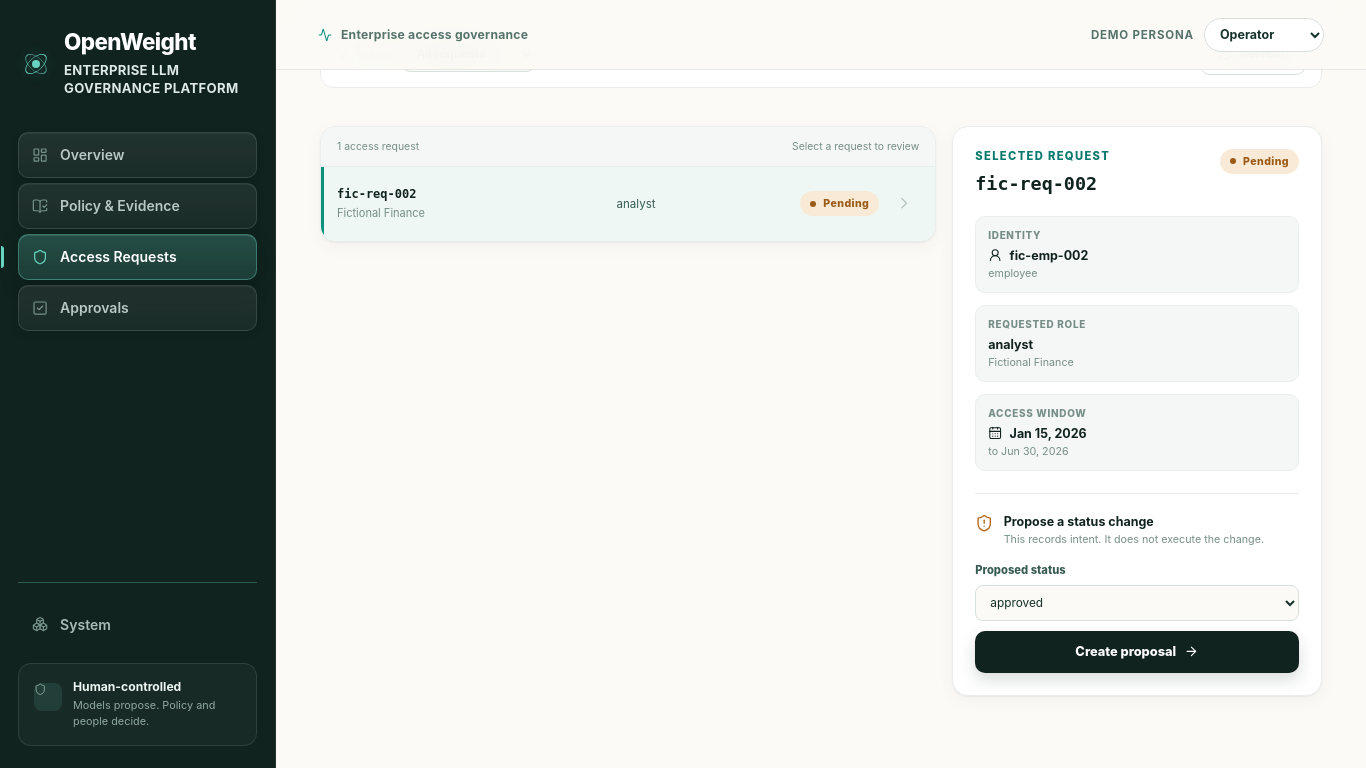
it: access proposal and human approval flow › supports deliberate rejection without presenting a controlled write
(page scrolled)
Click the button "Create proposal". click: (1137, 652)
box: 975,630 -> 1299,672
(page scrolled)
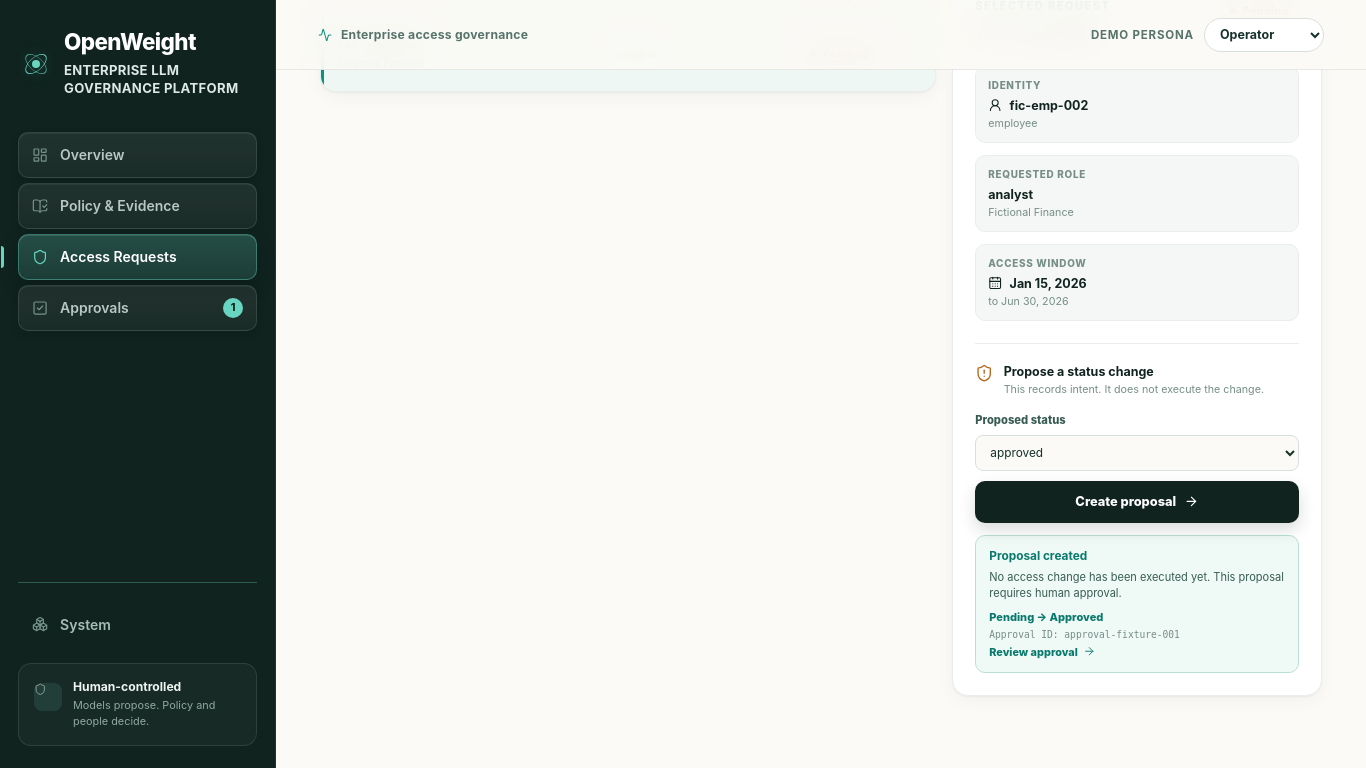
Click the button "Review approval". click: (1042, 652)
box: 989,645 -> 1095,659
(page scrolled)
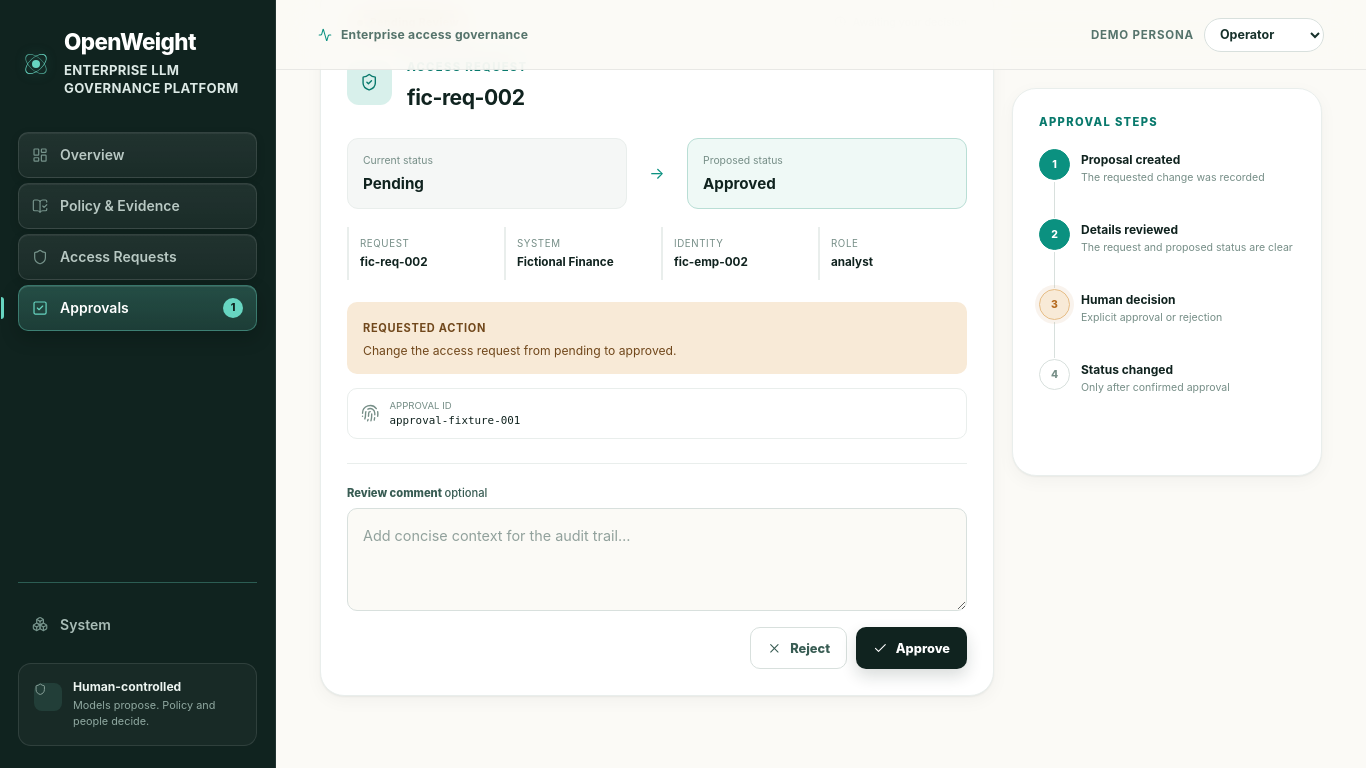
Click the button "Reject". click: (799, 648)
box: 750,627 -> 847,669
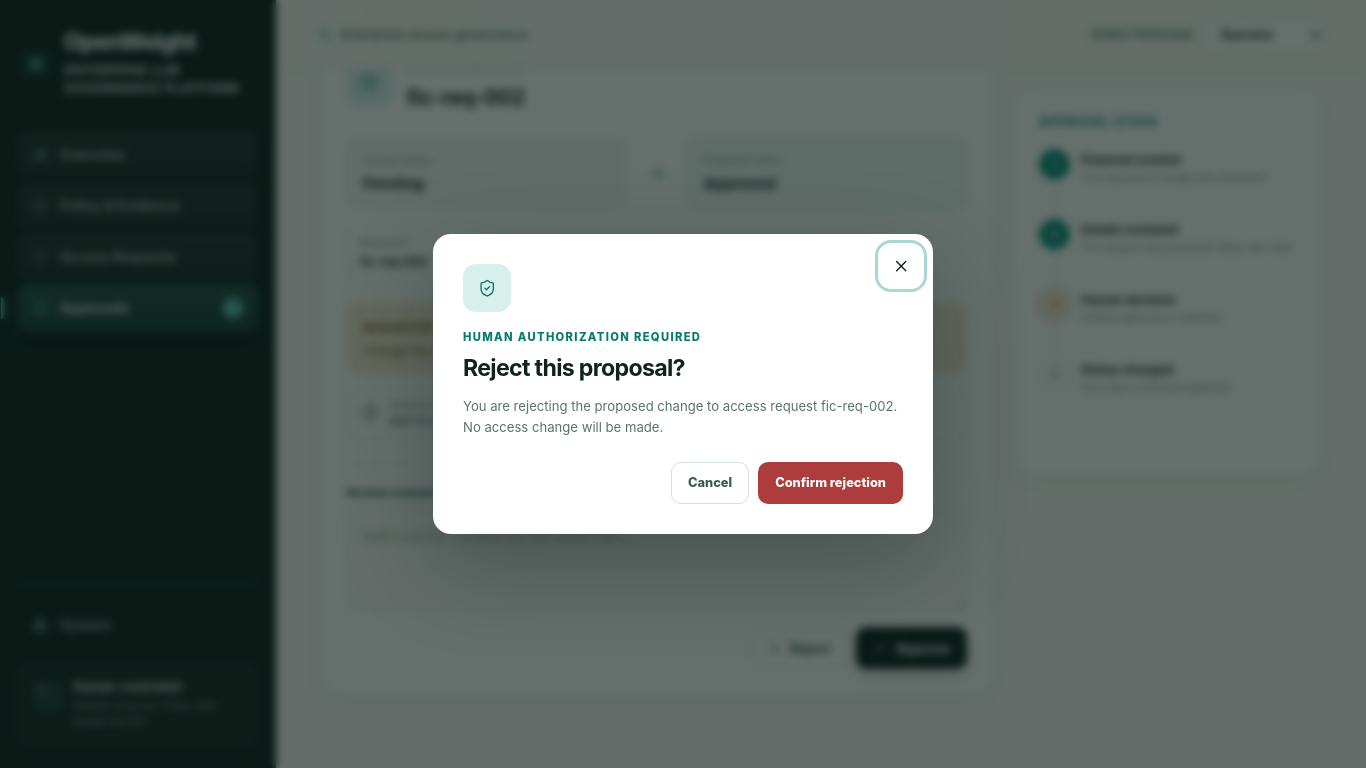
Click the button "Confirm rejection". click: (831, 482)
box: 758,462 -> 903,504
(page scrolled)
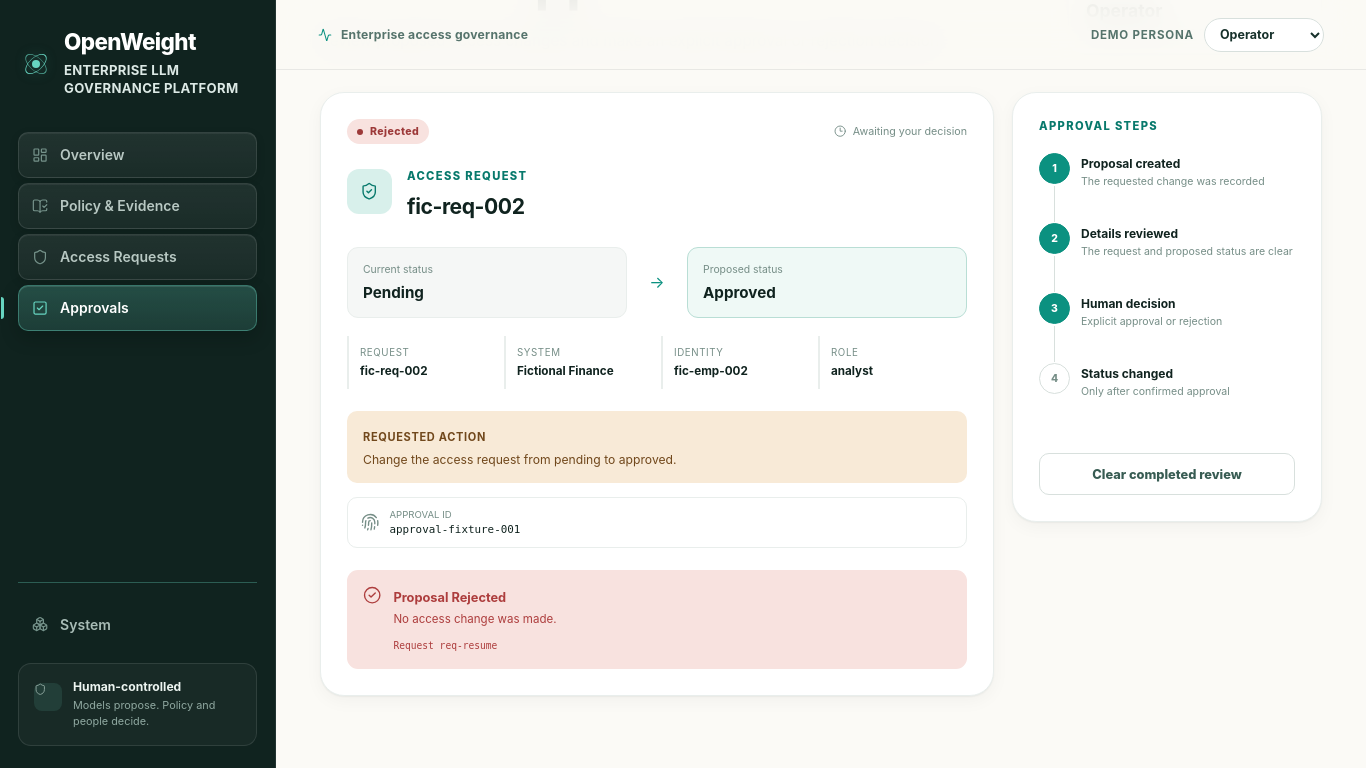
Result: the text "Proposal rejected" is shown at 393,590 -> 506,605
Result: the text "No access change was made." is shown at 393,611 -> 556,628
